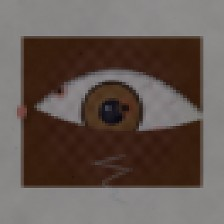foreign_body_visible: (45, 80, 74, 102)
